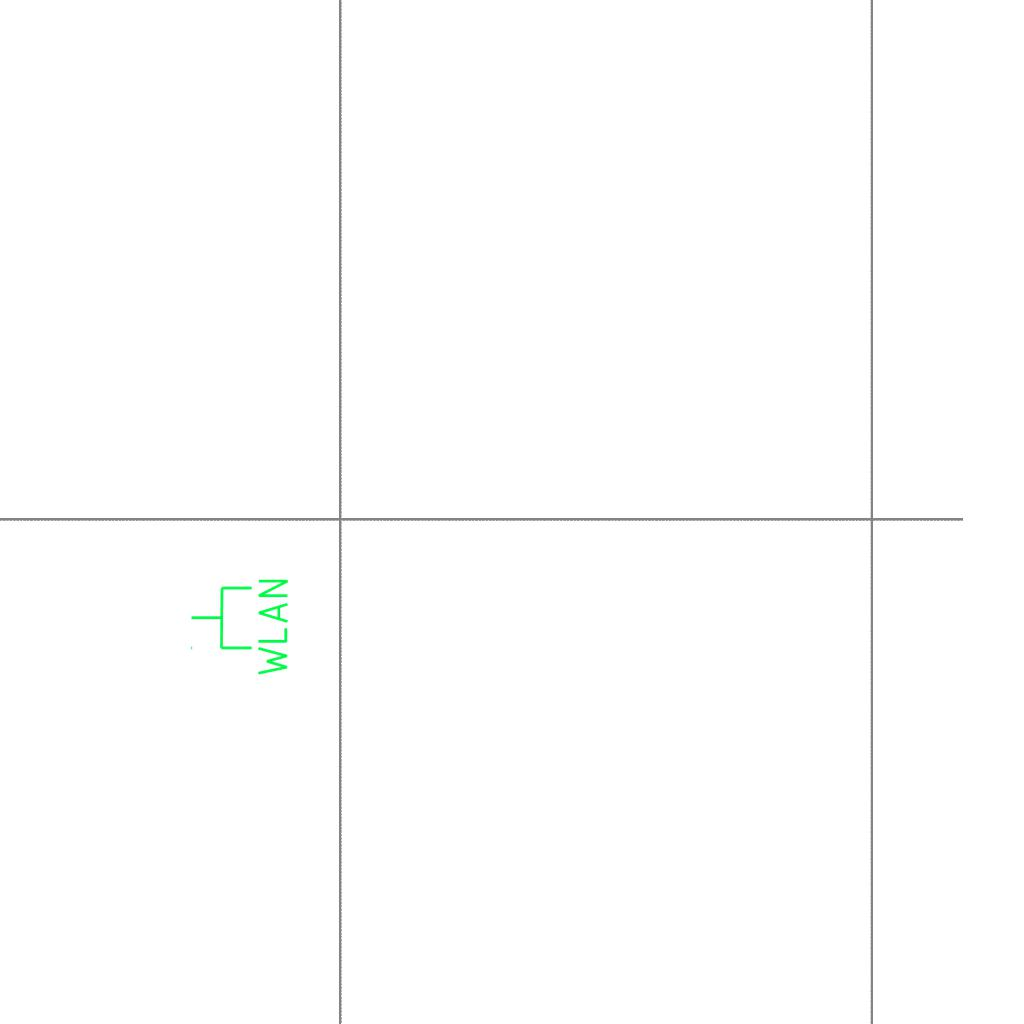WLAN: (188, 575, 292, 680)
